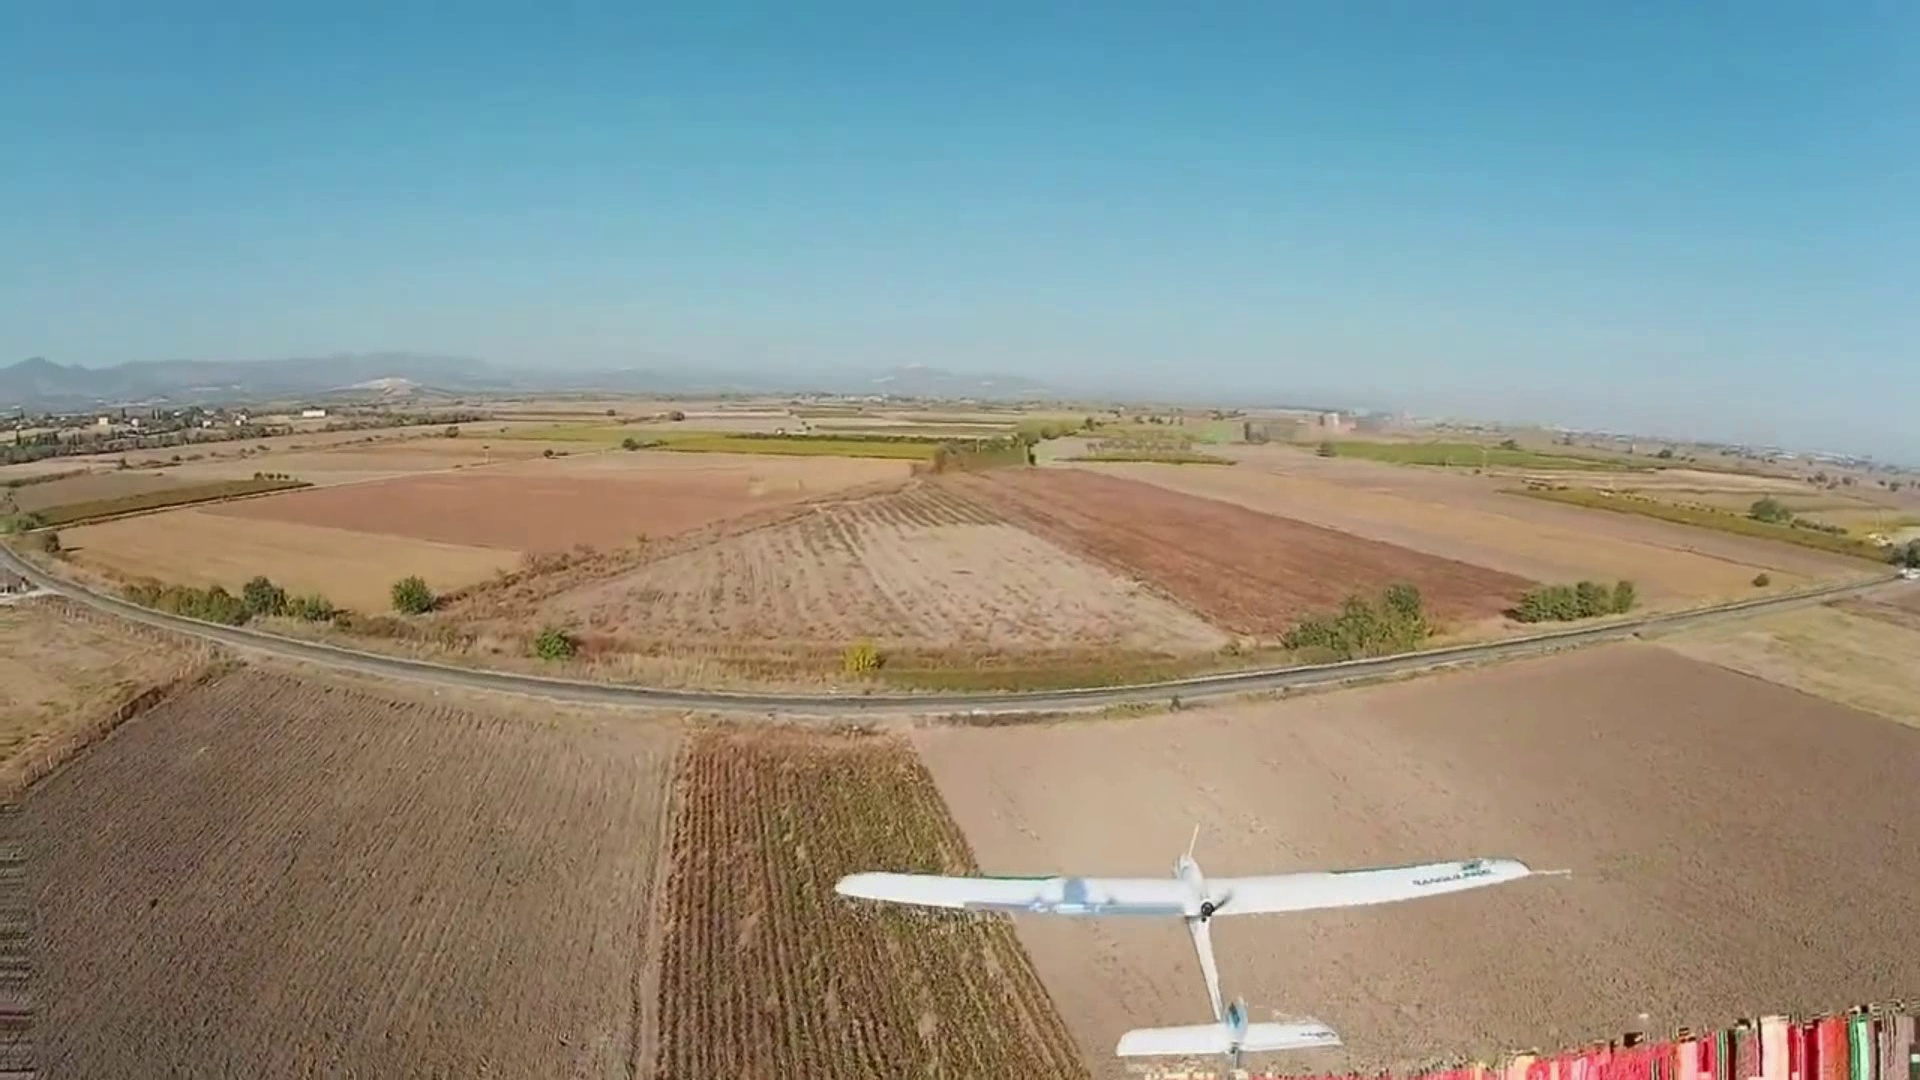airplane: (833, 833, 1534, 1059)
